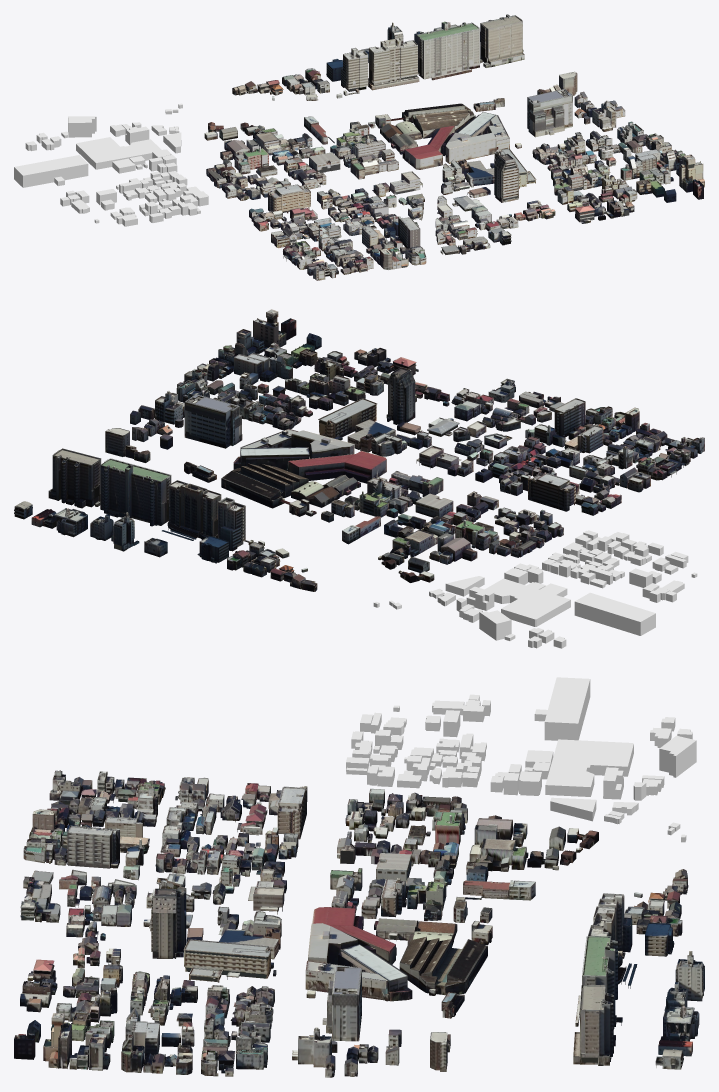
Rendered from 2023-lod3-station-7-0-packed.glb.
3 renders of one model, top to bottom at view 1: azimuth 30°, elevation 25°; view 2: azimuth 150°, elevation 25°; view 3: azimuth 270°, elevation 25°, orthographic. The views are drawn at different scales.
Size of the model in its own units: 607 by 52.2 by 463.
Materials: 9 (8 with a texture image).
